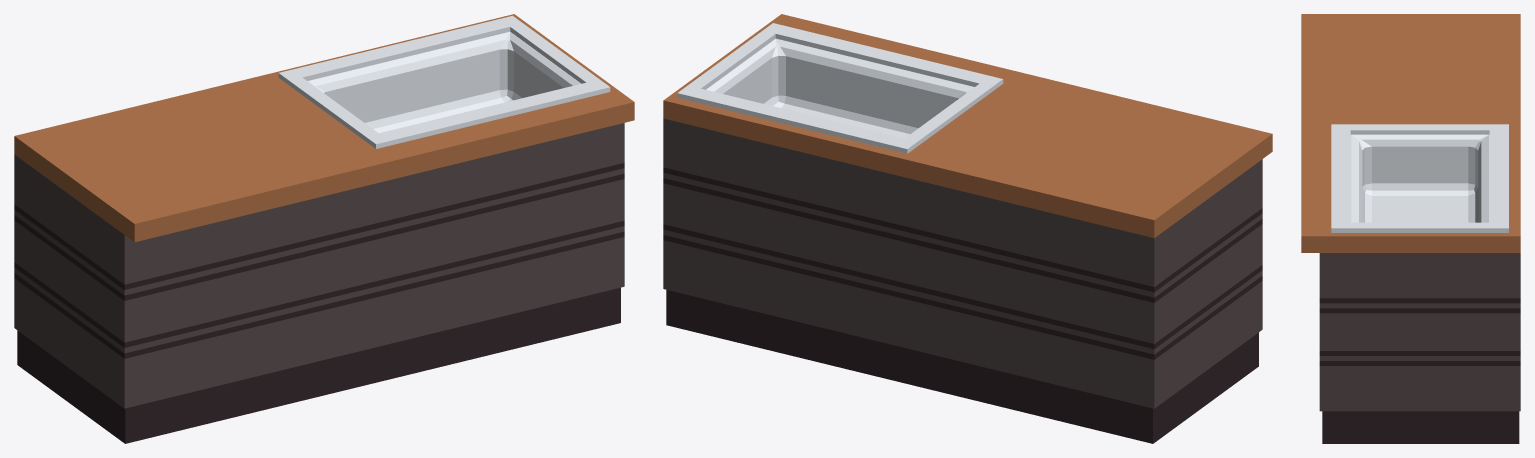
Rendered from Prop_KitchenCabinet_02_N.fbx.
3 renders of one model, left to right at view 1: azimuth 30°, elevation 25°; view 2: azimuth 150°, elevation 25°; view 3: azimuth 270°, elevation 25°, orthographic. The views are drawn at different scales.
Visible parts, largest first — view 1: Prop_KitchenCabinet_02_N; view 2: Prop_KitchenCabinet_02_N; view 3: Prop_KitchenCabinet_02_N.
Part boxes in pixels (x1,y1,x2,y2): Prop_KitchenCabinet_02_N: (14, 14, 634, 443); Prop_KitchenCabinet_02_N: (663, 14, 1272, 443); Prop_KitchenCabinet_02_N: (1301, 14, 1520, 443).
Bounding box in the file's own units: 240 × 107 × 100.
